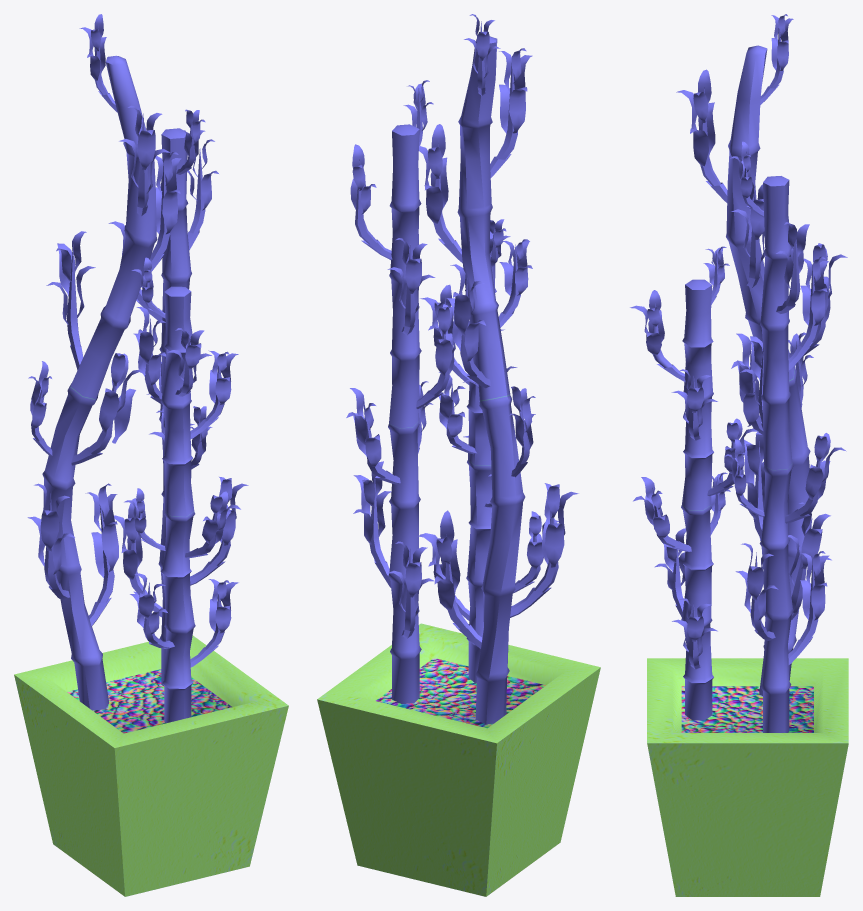
Rendered from Bamboo.fbx.
The picture shows the model from 3 angles, left to right: view 1: azimuth 30°, elevation 25°; view 2: azimuth 150°, elevation 25°; view 3: azimuth 270°, elevation 25°; orthographic projection. The views are drawn at different scales.
Visible parts, largest first — view 1: Pot, Bamboo; view 2: Pot, Bamboo; view 3: Pot, Bamboo.
Boxes of the visible parts, x1=… form: Pot: x1=27, y1=14, x2=248, y2=723; Bamboo: x1=14, y1=635, x2=288, y2=896; Pot: x1=346, y1=14, x2=578, y2=724; Bamboo: x1=317, y1=623, x2=600, y2=896; Pot: x1=630, y1=14, x2=847, y2=732; Bamboo: x1=647, y1=658, x2=848, y2=896.
Bounding box in the file's own units: 38.61 × 34.78 × 146.
